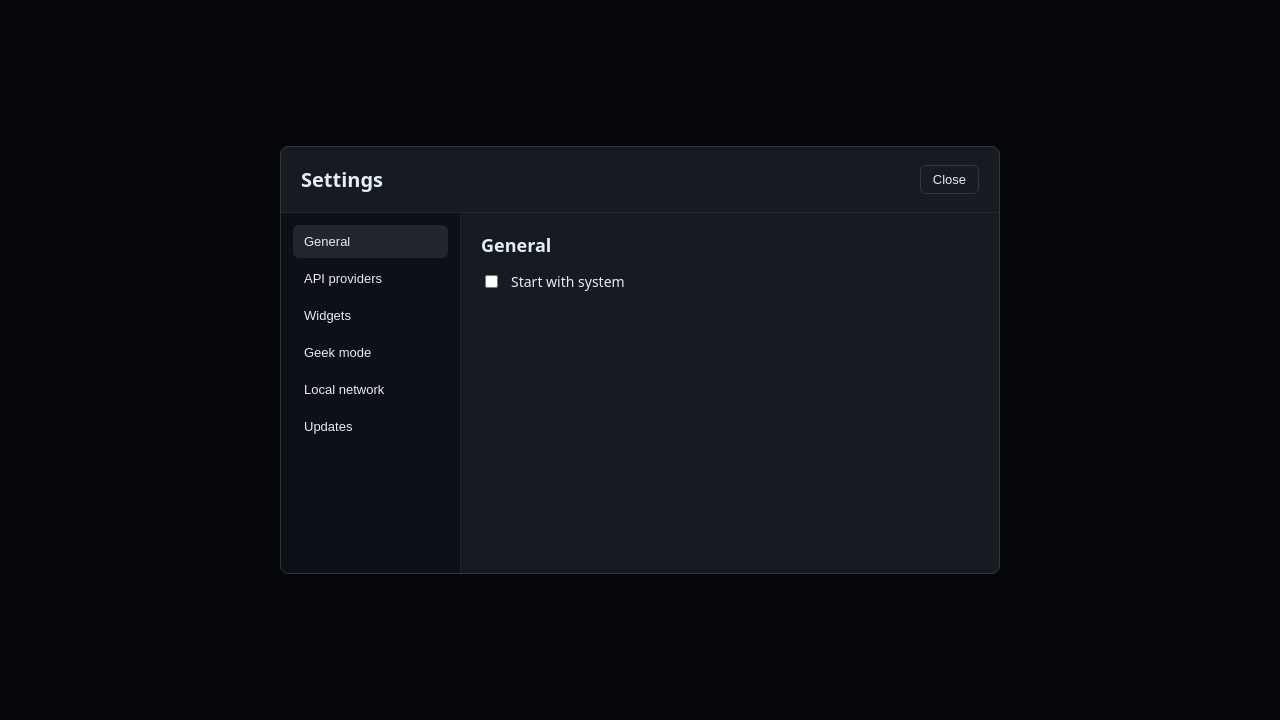
it: SettingsModal › describe-an-API lookup shows inline error and leaves form untouched on failure
Step 1. Click the button "API providers" → (370, 278), box [293,262,448,295]
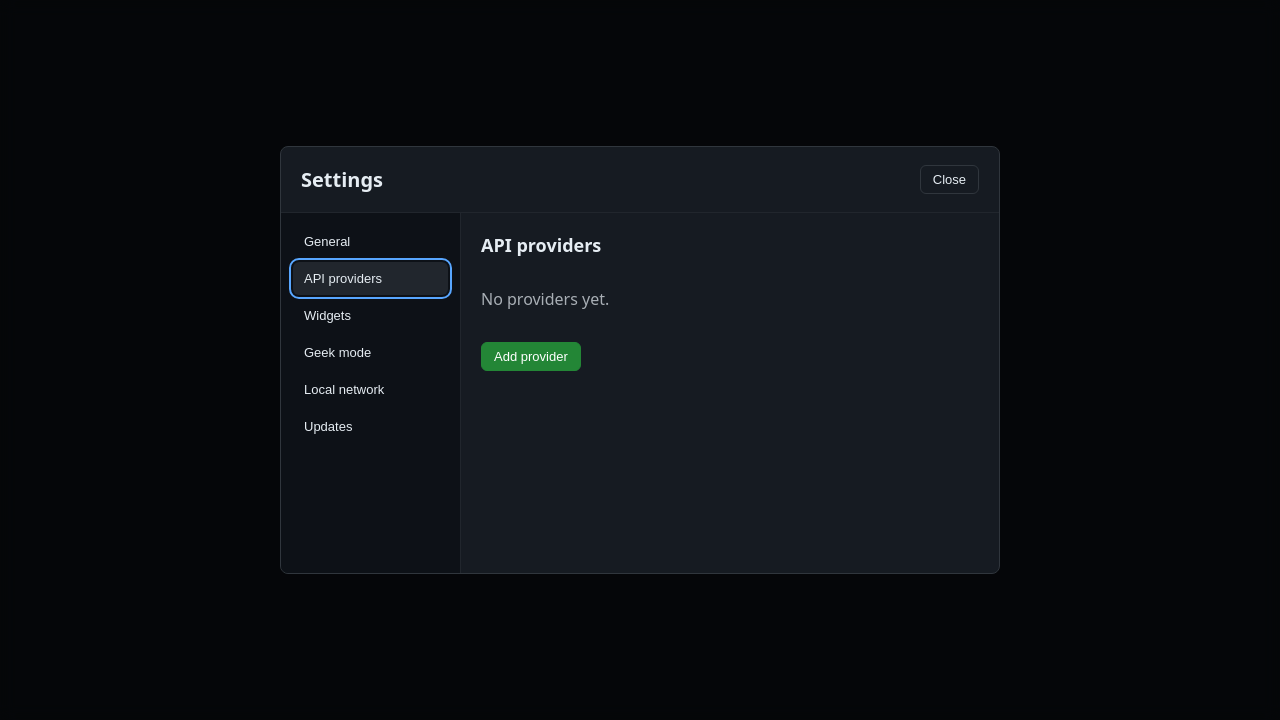
Step 2. Click the button "Add provider" → (531, 356), box [481,342,581,371]
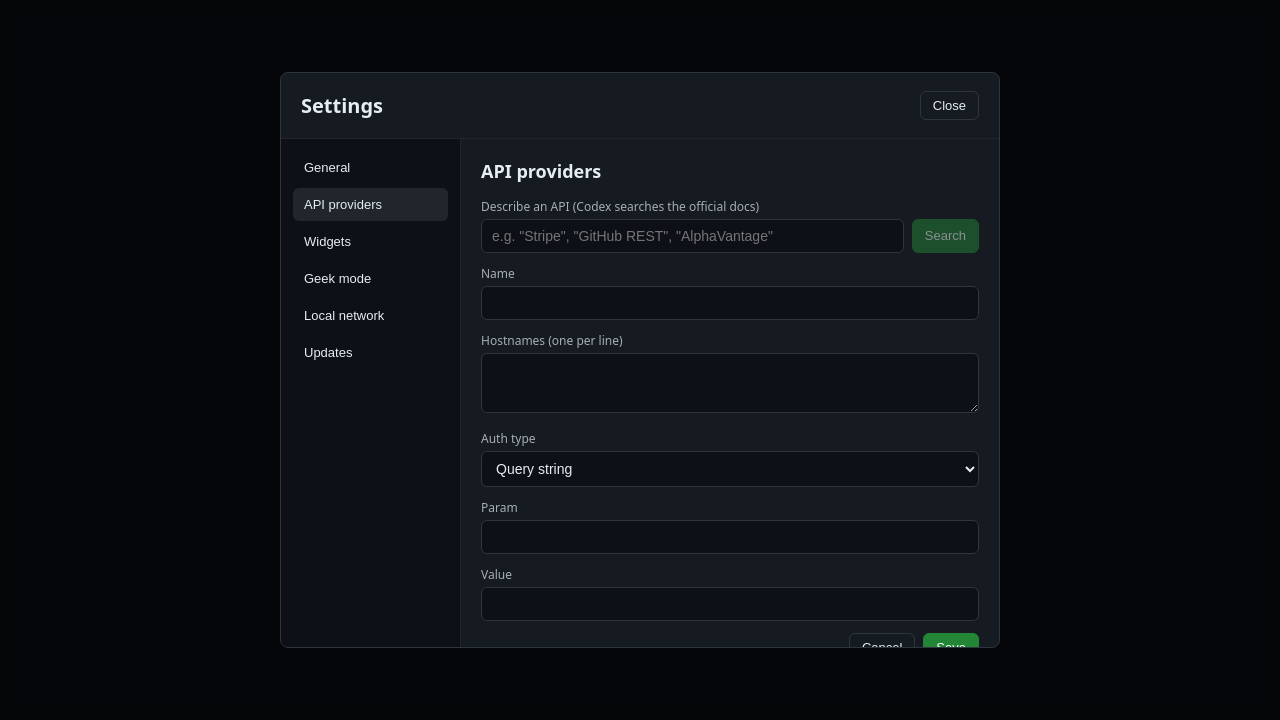
Step 3. Type "made-up" into the field named "describe an api" → (692, 236), box [481,219,904,253]
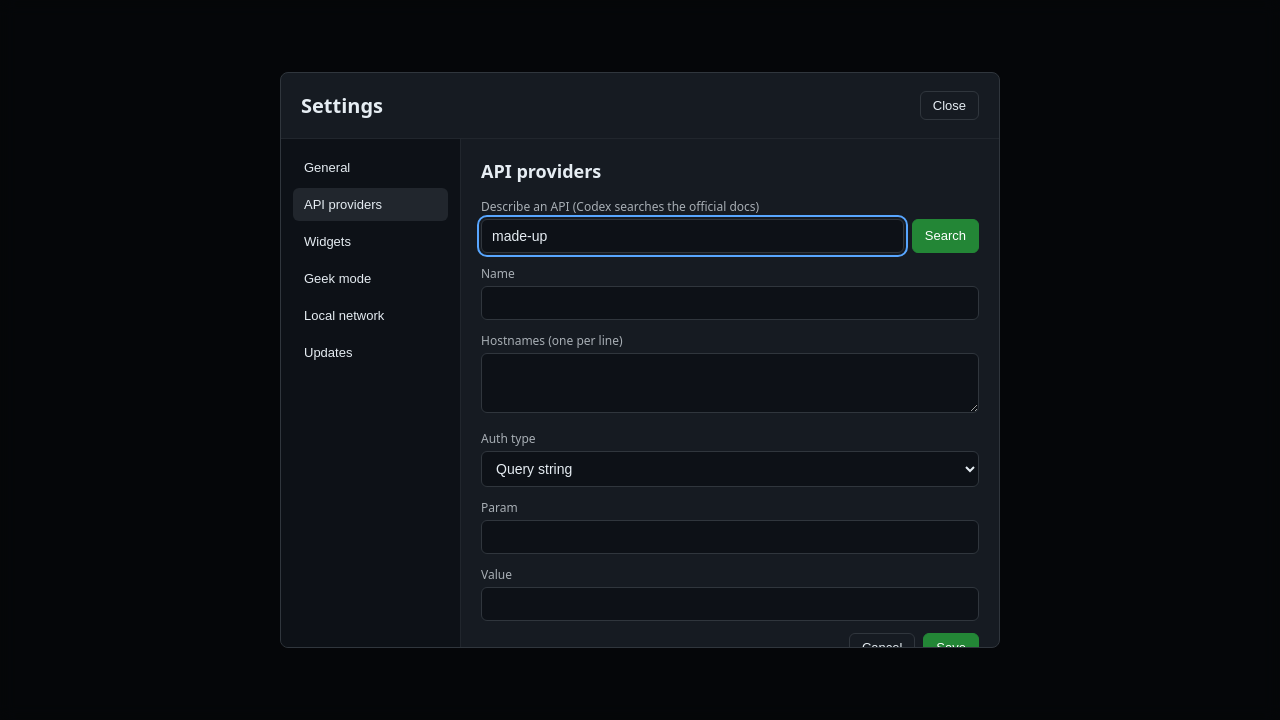
Step 4. Click the button "Search" → (945, 236), box [912,219,979,253]
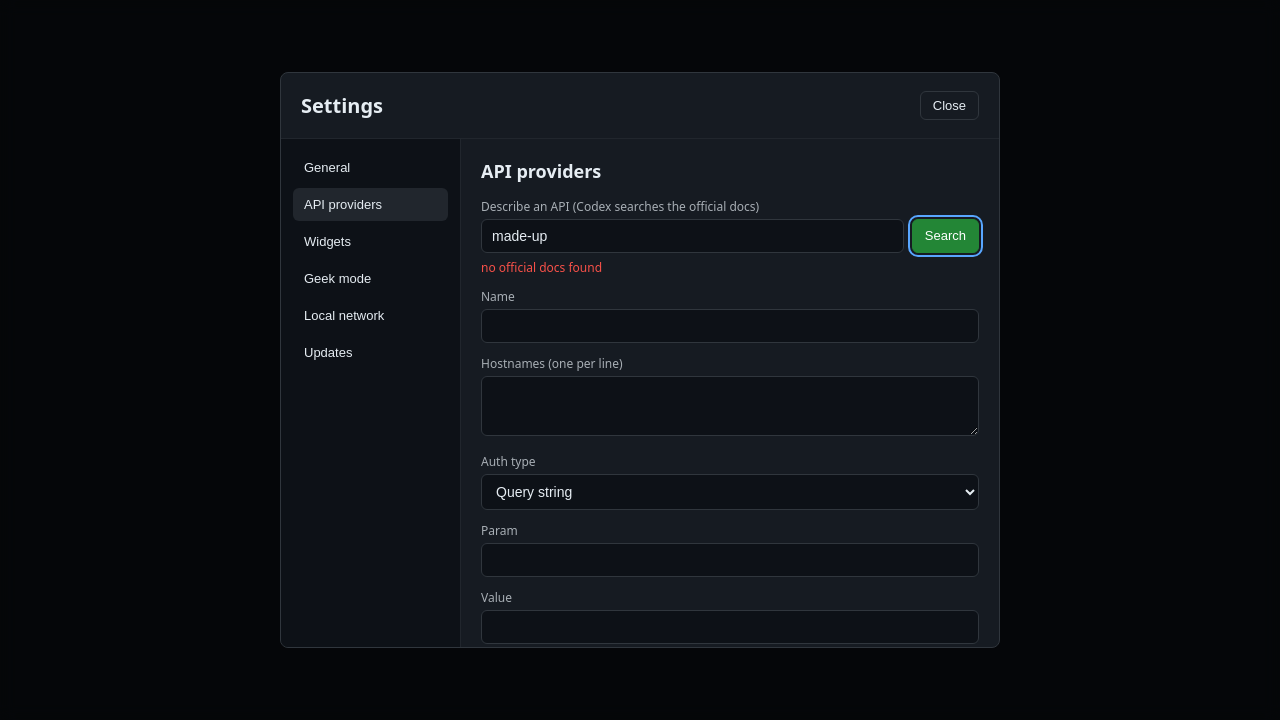
Now the field labelled "Name" is empty, box [481,309,979,343]
Now the text "no official docs found" is shown, box [481,259,602,276]
